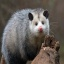opossum: (2, 8, 50, 62)
